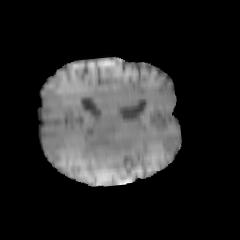glioma: (78, 126, 138, 176)
